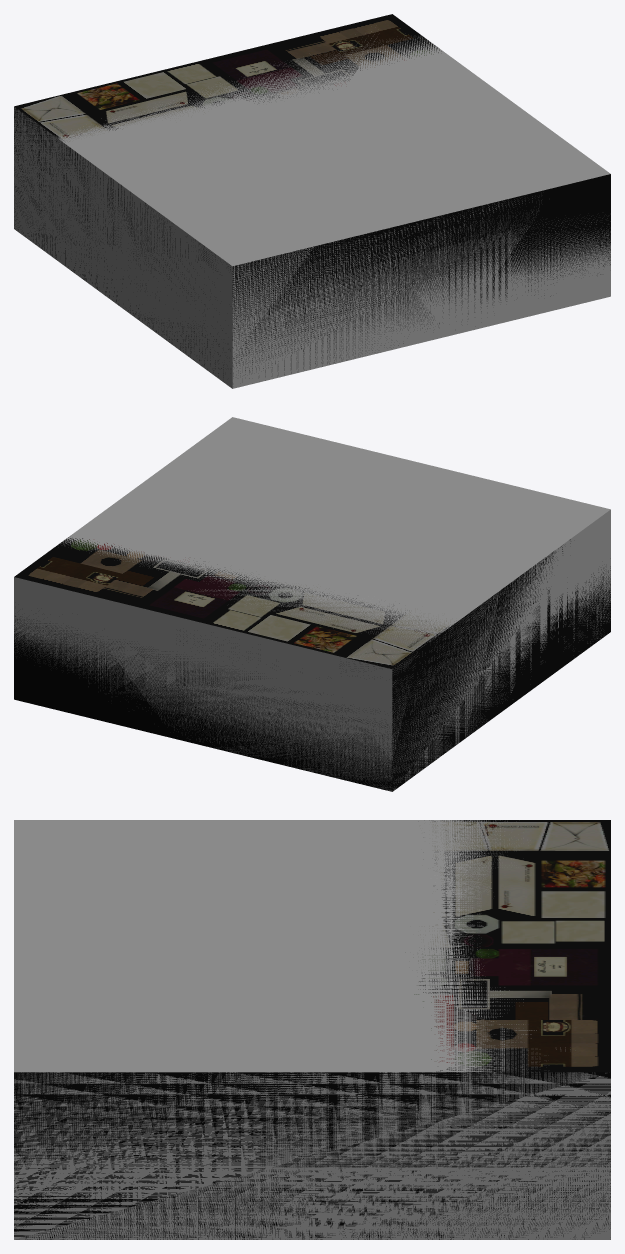
The model's file is bowl.FBX.
The picture shows the model from 3 angles, top to bottom: view 1: azimuth 30°, elevation 25°; view 2: azimuth 150°, elevation 25°; view 3: azimuth 270°, elevation 25°; orthographic projection. The views are drawn at different scales.
Visible parts, largest first — view 1: bounds, colbox-1; view 2: bounds, colbox-1; view 3: bounds, colbox-1.
Boxes of the visible parts, x1,y1,x2,y2 form: bounds: [14, 31, 610, 388]; colbox-1: [14, 14, 610, 378]; bounds: [14, 417, 610, 791]; colbox-1: [14, 537, 610, 791]; bounds: [14, 820, 610, 1239]; colbox-1: [14, 820, 610, 1239].
Bounding box in the file's own units: 46.22 × 14.31 × 46.22.
